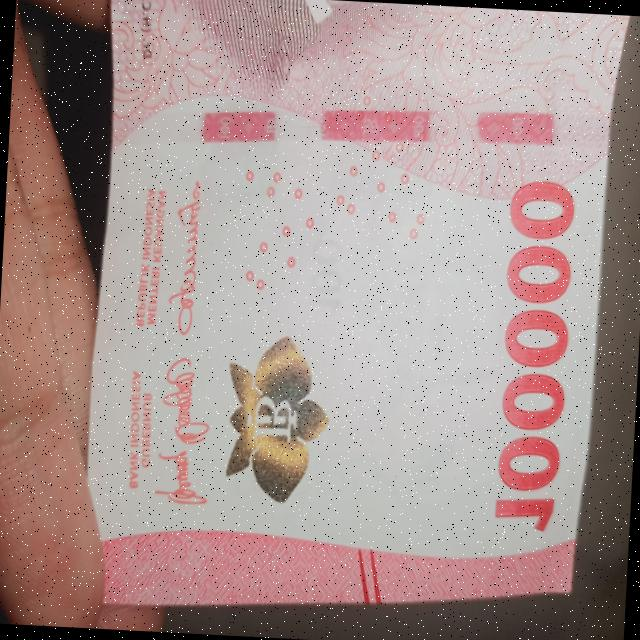100K: (76, 0, 634, 639)
